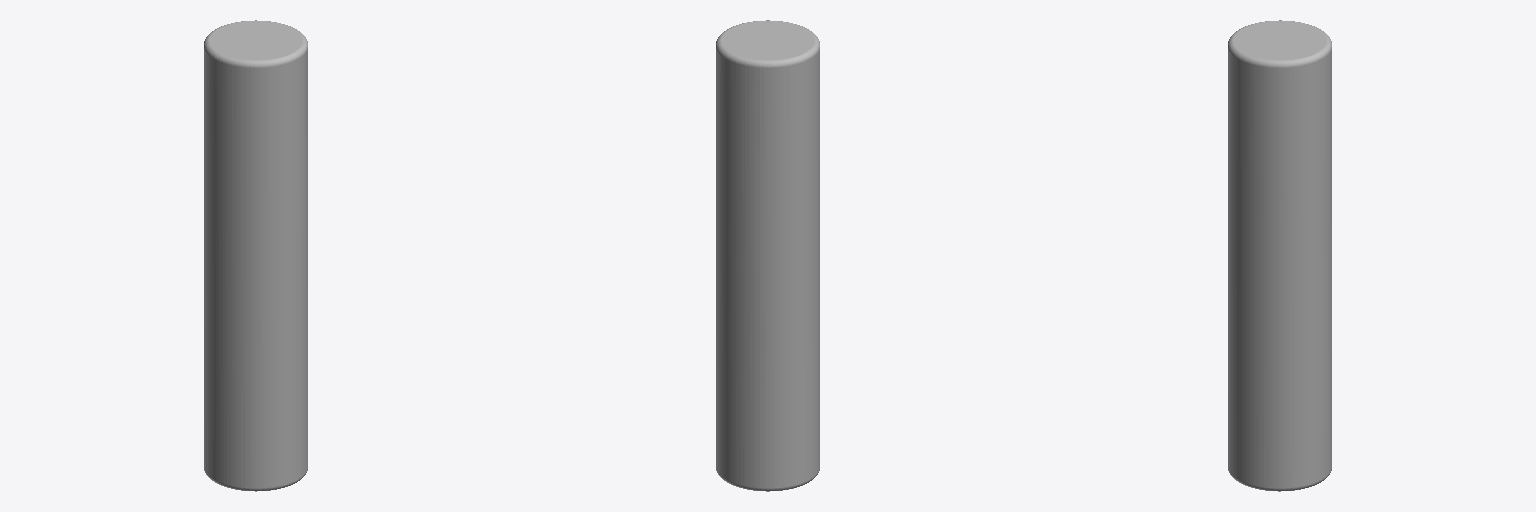
URDF robot description (root):
<robot name="root">
  <link name="link_cylinder_long_convex_piece_0">
    <inertial>
      <origin xyz="0 0 0" rpy="0 0 0"/>
      <mass value="3.02E-01"/>
      <inertia ixx="1.23E-03" ixy="3.75E-11" ixz="2.18E-09" iyy="1.23E-03" iyz="1.09E-09" izz="8.64E-05"/>
    </inertial>
    <visual>
      <origin xyz="0 0 0" rpy="0 0 0"/>
      <geometry>
        <mesh filename="cylinder_long_convex_piece_0.obj" scale="1.0000E+00 1.0000E+00 1.0000E+00"/>
      </geometry>
      <material name="">
        <color rgba="7.50E-01 7.50E-01 7.50E-01 1"/>
      </material>
    </visual>
    <collision>
      <origin xyz="0 0 0" rpy="0 0 0"/>
      <geometry>
        <mesh filename="cylinder_long_convex_piece_0.obj" scale="1.0000E+00 1.0000E+00 1.0000E+00"/>
      </geometry>
    </collision>
  </link>
</robot>

--- Render facts (derived) ---
3 views of the same robot in one strip: view 1: azimuth 30°, elevation 25°; view 2: azimuth 150°, elevation 25°; view 3: azimuth 270°, elevation 25° (orthographic).
Model root with 1 links and 0 joints (none), rooted at link_cylinder_long_convex_piece_0, posed all joints at 0.
Links seen in each view (by area): view 1: link_cylinder_long_convex_piece_0; view 2: link_cylinder_long_convex_piece_0; view 3: link_cylinder_long_convex_piece_0.
Boxes of the visible links, x1,y1,x2,y2 form: link_cylinder_long_convex_piece_0: (204,20,307,491); link_cylinder_long_convex_piece_0: (716,20,819,491); link_cylinder_long_convex_piece_0: (1228,20,1331,491).
Size in the robot's own frame: 0.0479 by 0.0479 by 0.2178 metres.
Meshes: 1 distinct files referenced, 1 mesh visuals loaded (1 OBJ).
